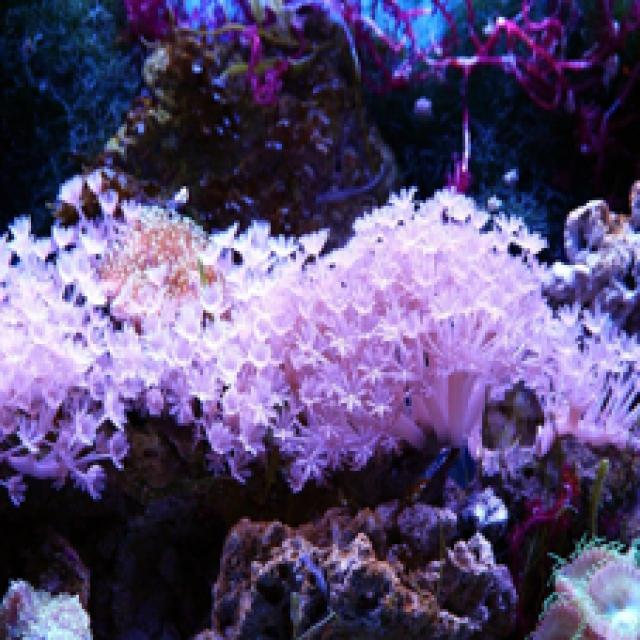Healthy: (1, 193, 638, 503), (531, 542, 638, 638), (1, 585, 91, 638)
